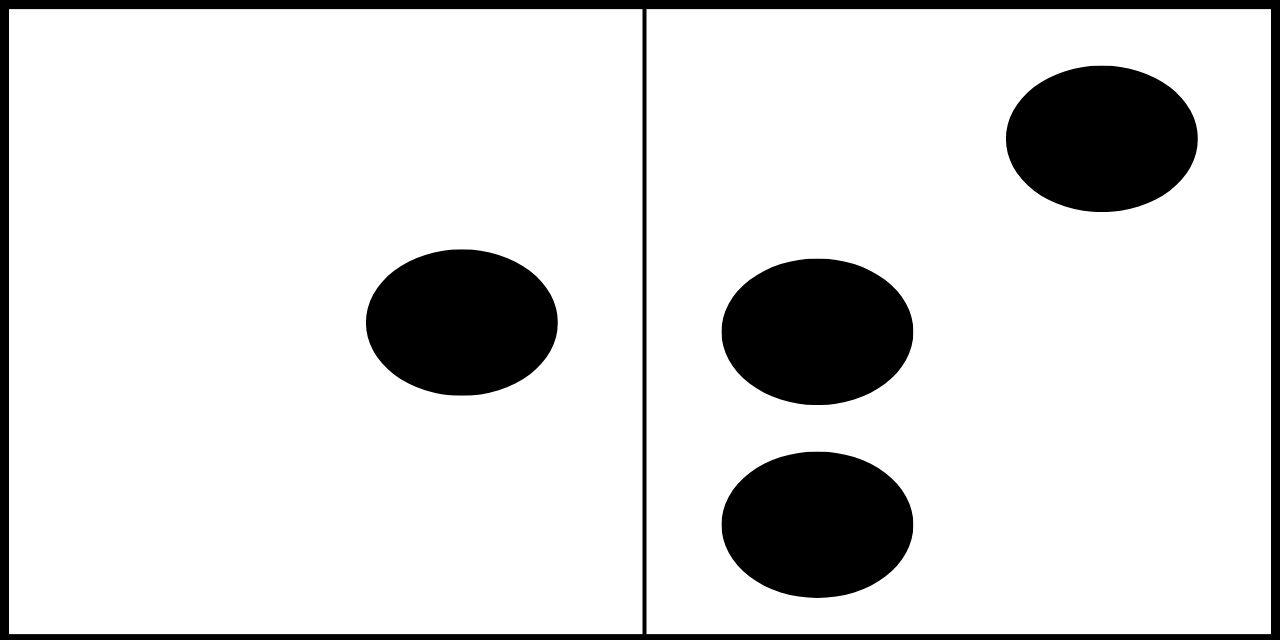dot_5: (96, 62, 560, 600)
subalit: (718, 63, 1202, 602)
